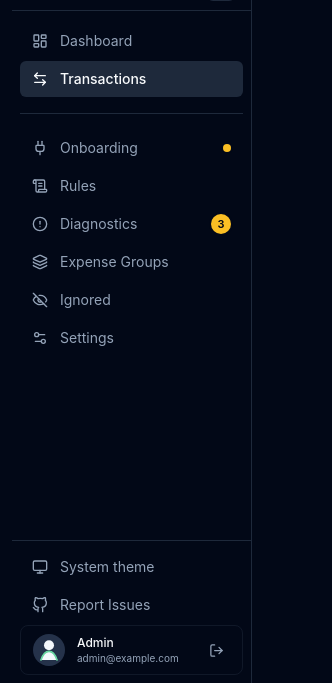
Scenario: Sidebar › navigates to login after signing out
Click the button named "Sign out": (216,650) [202,636,230,664]
(page scrolled)
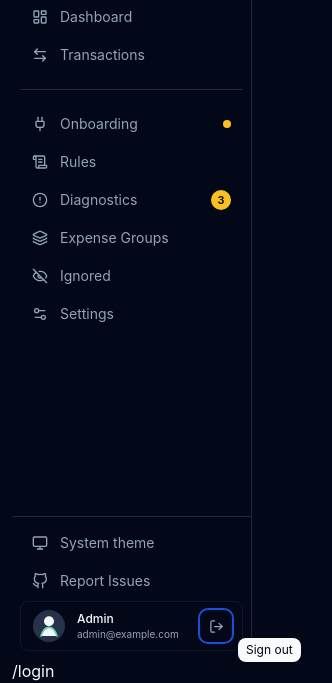
Check: the text with test id "location" reads "/login", box [12,661,54,681]
